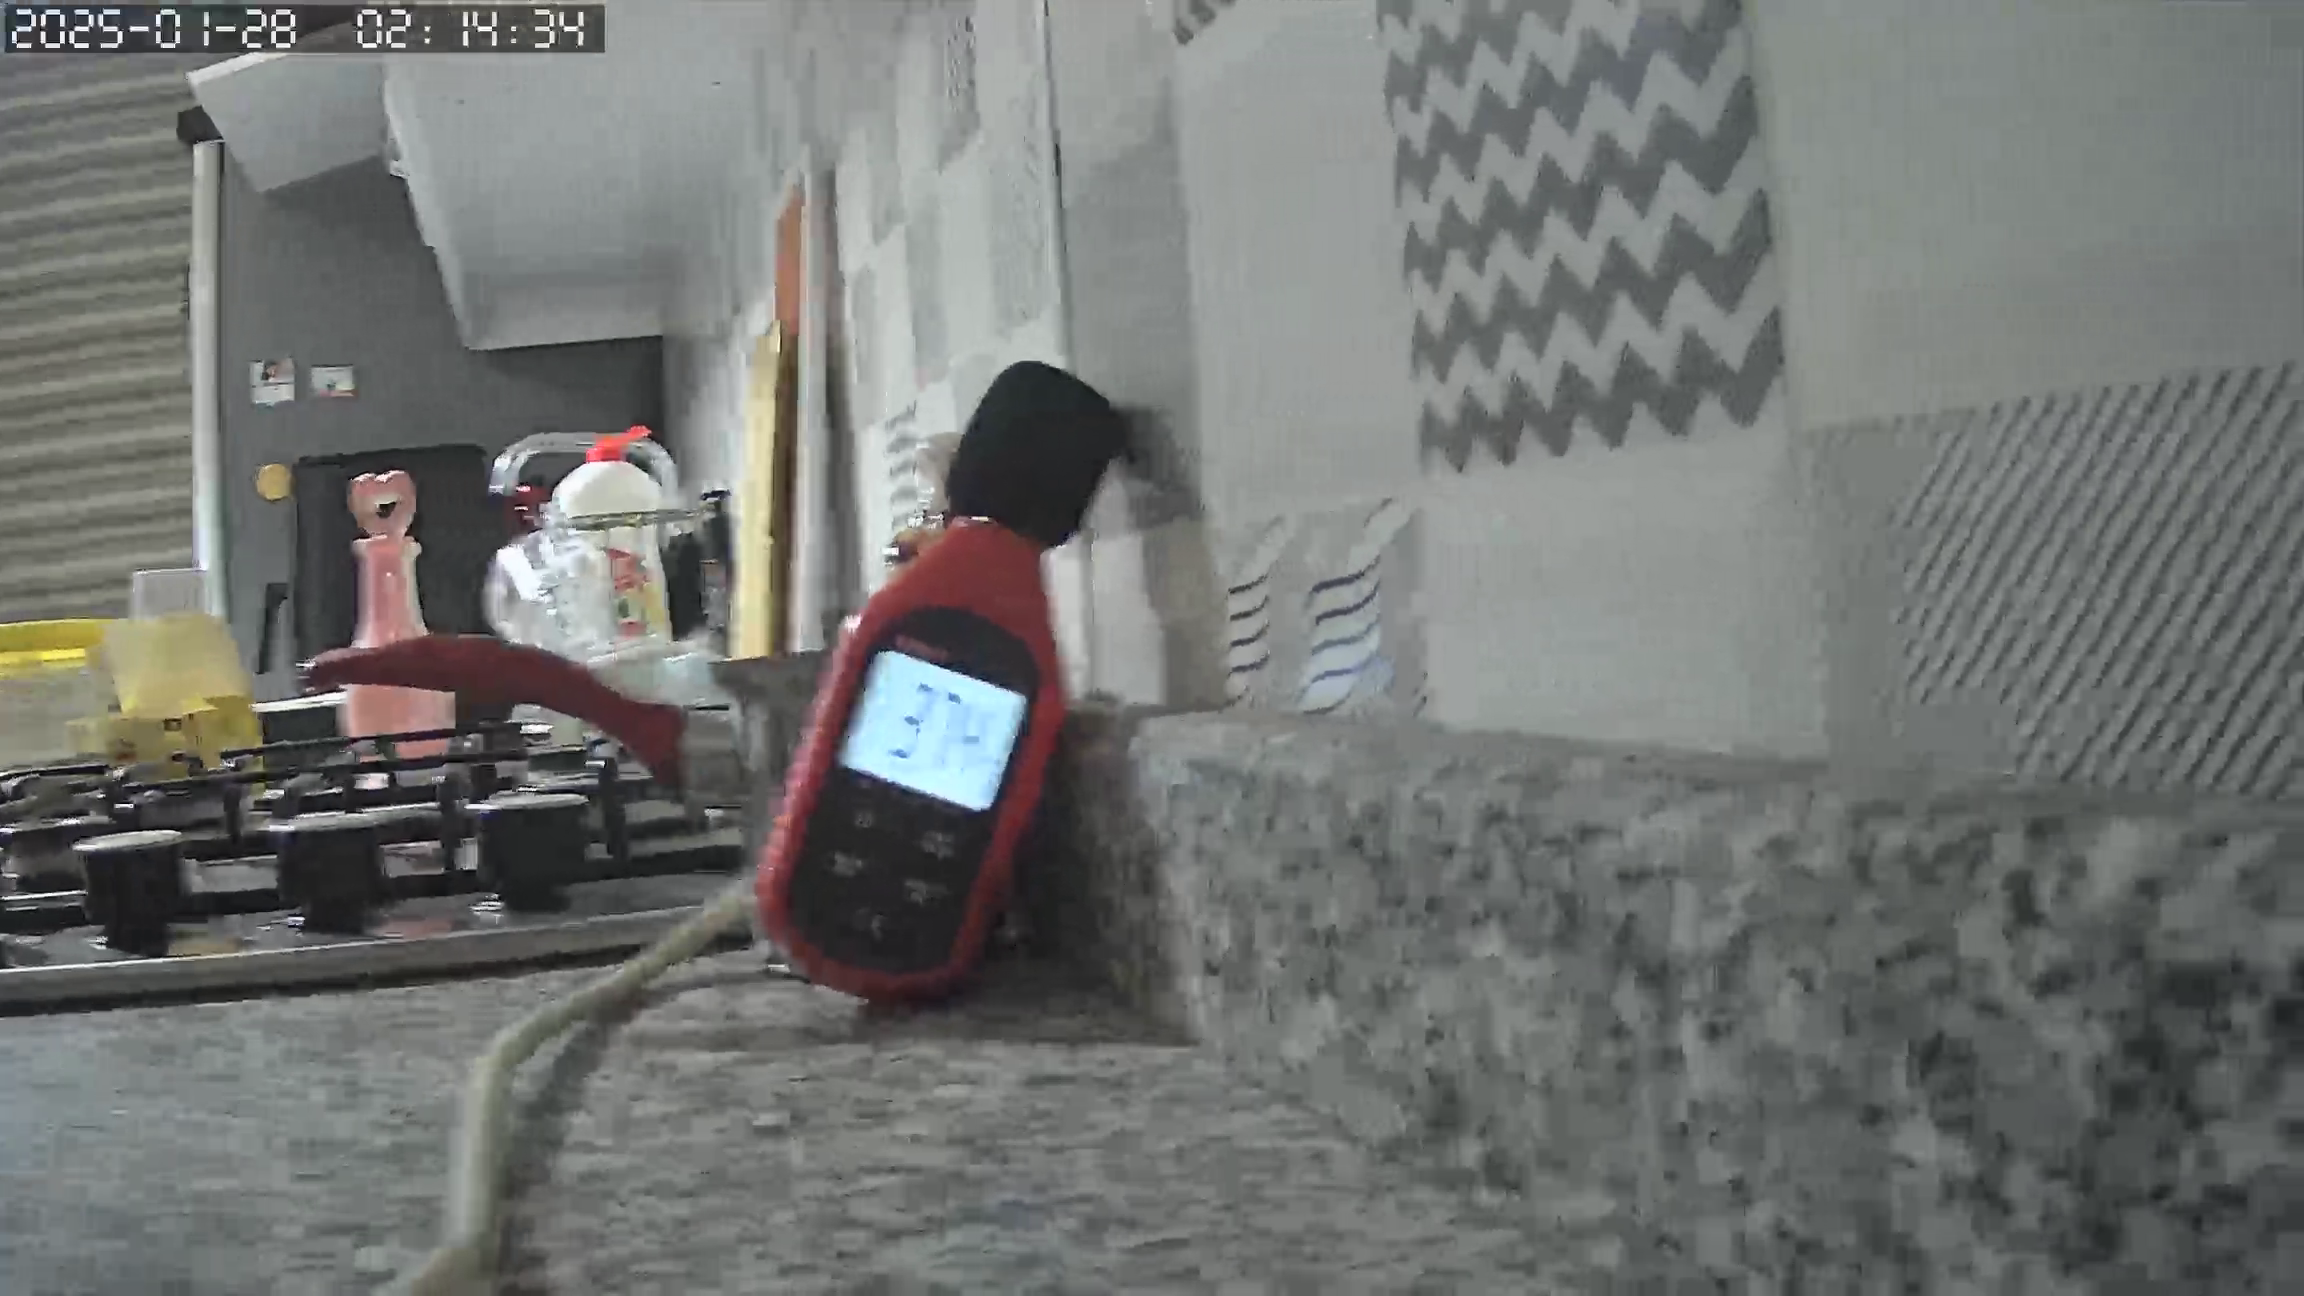screen: (839, 649, 1027, 809)
